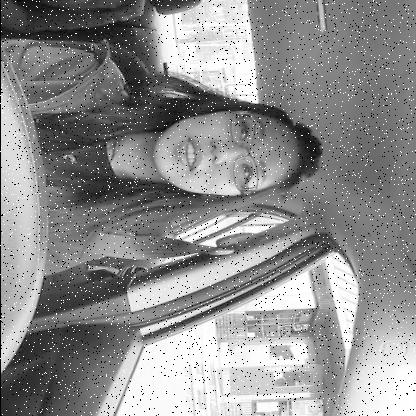seatbelt: (0, 94, 327, 268)
